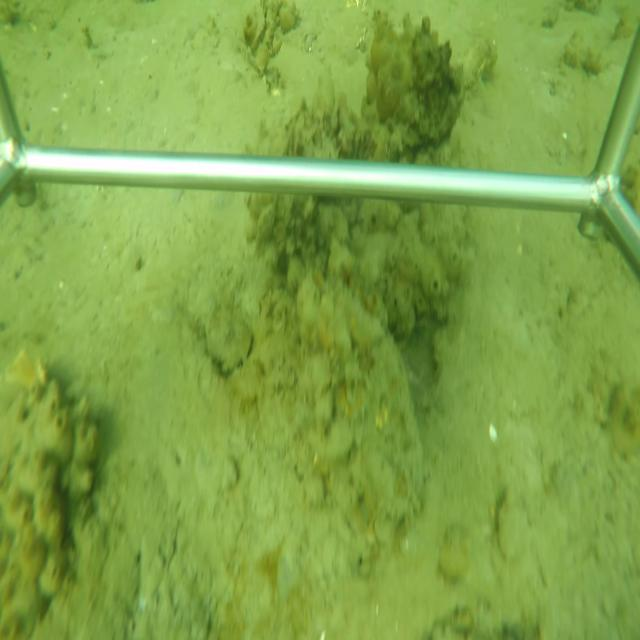Oyster-Indeterminate: (300, 280, 428, 555), (202, 299, 256, 378)
